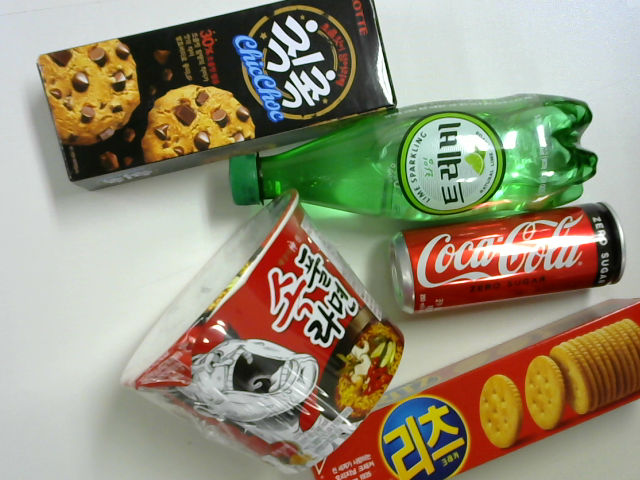Chicchok_Original_2400: (29, 1, 405, 192)
Coca_Cola_Zero_Can_250ml: (379, 198, 635, 314)
Hejangpul: (111, 192, 407, 480)
Ritz_Cracker: (299, 287, 640, 479)
Treviraim_500ml: (216, 88, 603, 224)
